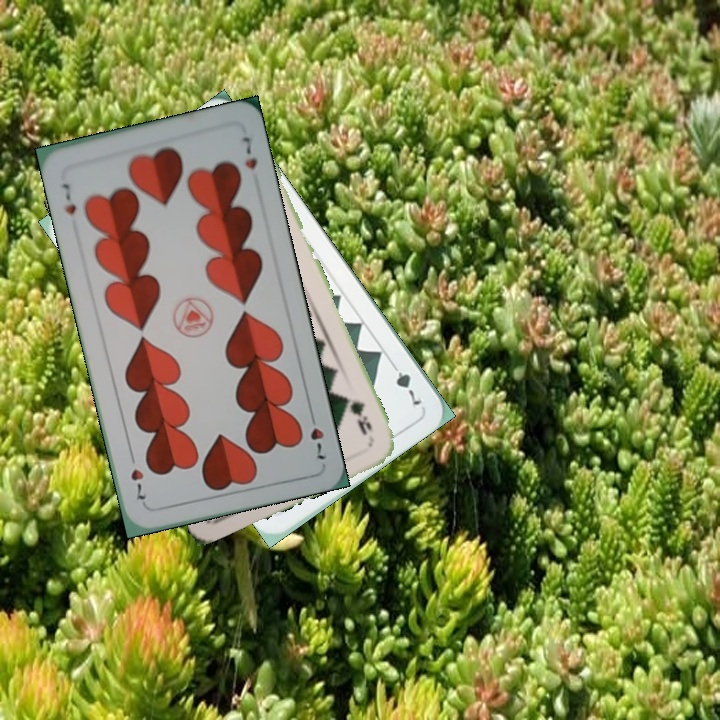G7: (385, 357, 425, 408)
G9: (341, 393, 375, 438)
H7: (305, 407, 329, 462), (58, 179, 79, 217)
